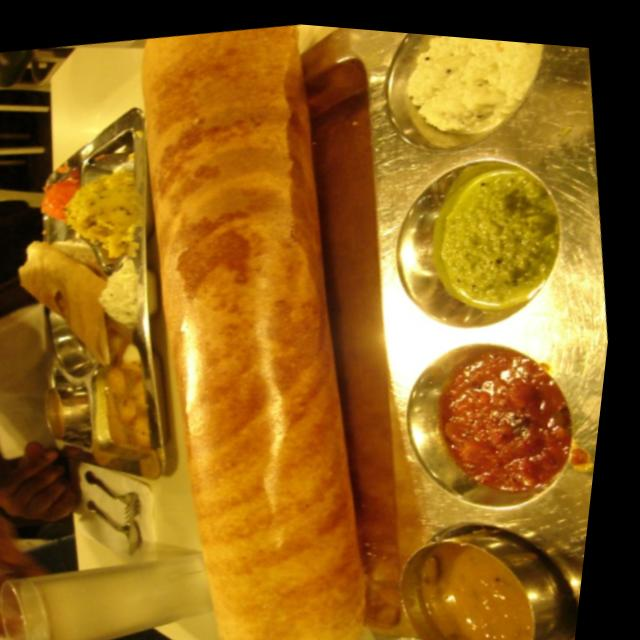DOSA: (143, 24, 363, 640)
GREEN CHUTNEY: (432, 162, 558, 309)
RED CHUTNEY: (439, 346, 571, 492)
SAMBAR: (400, 524, 577, 640)
WHITE CHUTNEY: (409, 35, 541, 133)
